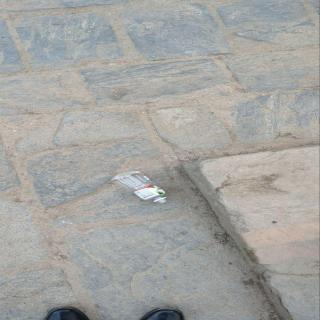Plastic-bottle: (108, 170, 176, 208)
